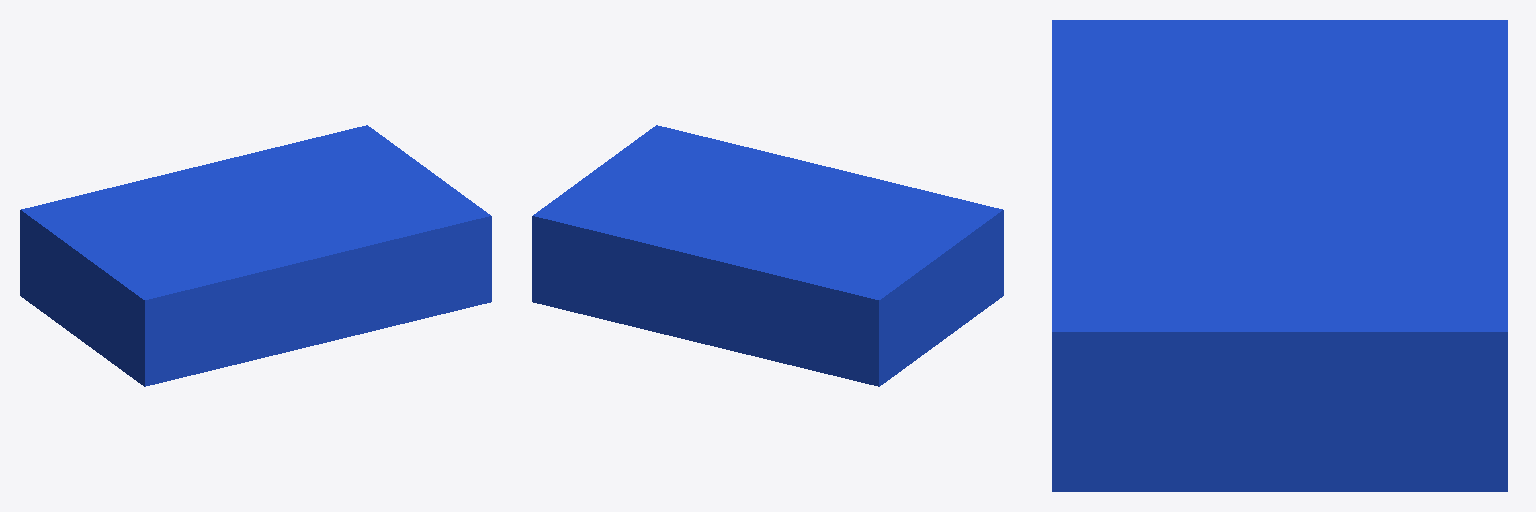
URDF robot description (diff_drive):
<?xml version="1.0"?>
<!-- Differential-drive robot: box chassis, two continuous wheels and a caster ball (second collision
     shape of base_link). Drive it in the editor with W/A/S/D. -->
<robot name="diff_drive">
  <!-- Reference frame on the floor, no geometry: imported as no part at all. -->
  <link name="base_footprint"/>

  <joint name="base_joint" type="fixed">
    <parent link="base_footprint"/>
    <child link="base_link"/>
    <origin xyz="0 0 0.08"/>
  </joint>

  <link name="base_link">
    <inertial>
      <mass value="4"/>
      <inertia ixx="0.03" ixy="0" ixz="0" iyy="0.06" iyz="0" izz="0.08"/>
    </inertial>
    <visual>
      <origin xyz="0 0 0.04"/>
      <geometry><box size="0.42 0.26 0.1"/></geometry>
      <material name="blue"><color rgba="0.2 0.4 0.9 1"/></material>
    </visual>
    <collision>
      <origin xyz="0 0 0.04"/>
      <geometry><box size="0.42 0.26 0.1"/></geometry>
    </collision>
    <!-- Caster ball under the rear of the chassis. -->
    <collision>
      <origin xyz="-0.15 0 -0.04"/>
      <geometry><sphere radius="0.04"/></geometry>
    </collision>
  </link>

  <joint name="left_wheel_joint" type="continuous">
    <parent link="base_link"/>
    <child link="left_wheel"/>
    <origin xyz="0.08 0.16 0" rpy="0 0 0"/>
    <axis xyz="0 1 0"/>
    <limit effort="5" velocity="20"/>
  </joint>

  <link name="left_wheel">
    <inertial><mass value="0.3"/></inertial>
    <collision>
      <!-- URDF cylinders run along local Z; roll by 90 degrees to lay the wheel along Y. -->
      <origin xyz="0 0 0" rpy="1.5707963267948966 0 0"/>
      <geometry><cylinder radius="0.08" length="0.04"/></geometry>
    </collision>
  </link>

  <joint name="right_wheel_joint" type="continuous">
    <parent link="base_link"/>
    <child link="right_wheel"/>
    <origin xyz="0.08 -0.16 0" rpy="0 0 0"/>
    <axis xyz="0 1 0"/>
    <limit effort="5" velocity="20"/>
  </joint>

  <link name="right_wheel">
    <inertial><mass value="0.3"/></inertial>
    <collision>
      <origin xyz="0 0 0" rpy="1.5707963267948966 0 0"/>
      <geometry><cylinder radius="0.08" length="0.04"/></geometry>
    </collision>
  </link>

  <!-- Sensor frame with mass but no geometry: merged into base_link. -->
  <joint name="laser_joint" type="fixed">
    <parent link="base_link"/>
    <child link="laser"/>
    <origin xyz="0.12 0 0.12"/>
  </joint>
  <link name="laser">
    <inertial><mass value="0.1"/></inertial>
  </link>

  <gazebo reference="left_wheel"><mu1>1.0</mu1></gazebo>
</robot>

--- What the picture shows (computed from the rendered views, not written in the file) ---
Views: 3 orthographic renders of the robot side by side, from view 1: azimuth 30°, elevation 25°; view 2: azimuth 150°, elevation 25°; view 3: azimuth 270°, elevation 25°.
Robot: diff_drive — 5 links, 4 joints (2 continuous, 2 fixed); root link base_footprint; default pose: every joint at zero.
Links seen in each view (by area): view 1: base_link; view 2: base_link; view 3: base_link.
Boxes of the visible links, <box> form: base_link: <box>20,125,491,386</box>; base_link: <box>532,125,1003,386</box>; base_link: <box>1052,20,1507,491</box>.
Bounding box of the posed robot: 0.42 × 0.26 × 0.1 m (x, y, z).
Geometry: primitives only (box / cylinder / sphere), no mesh files.
